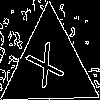X: (24, 41, 71, 98)
